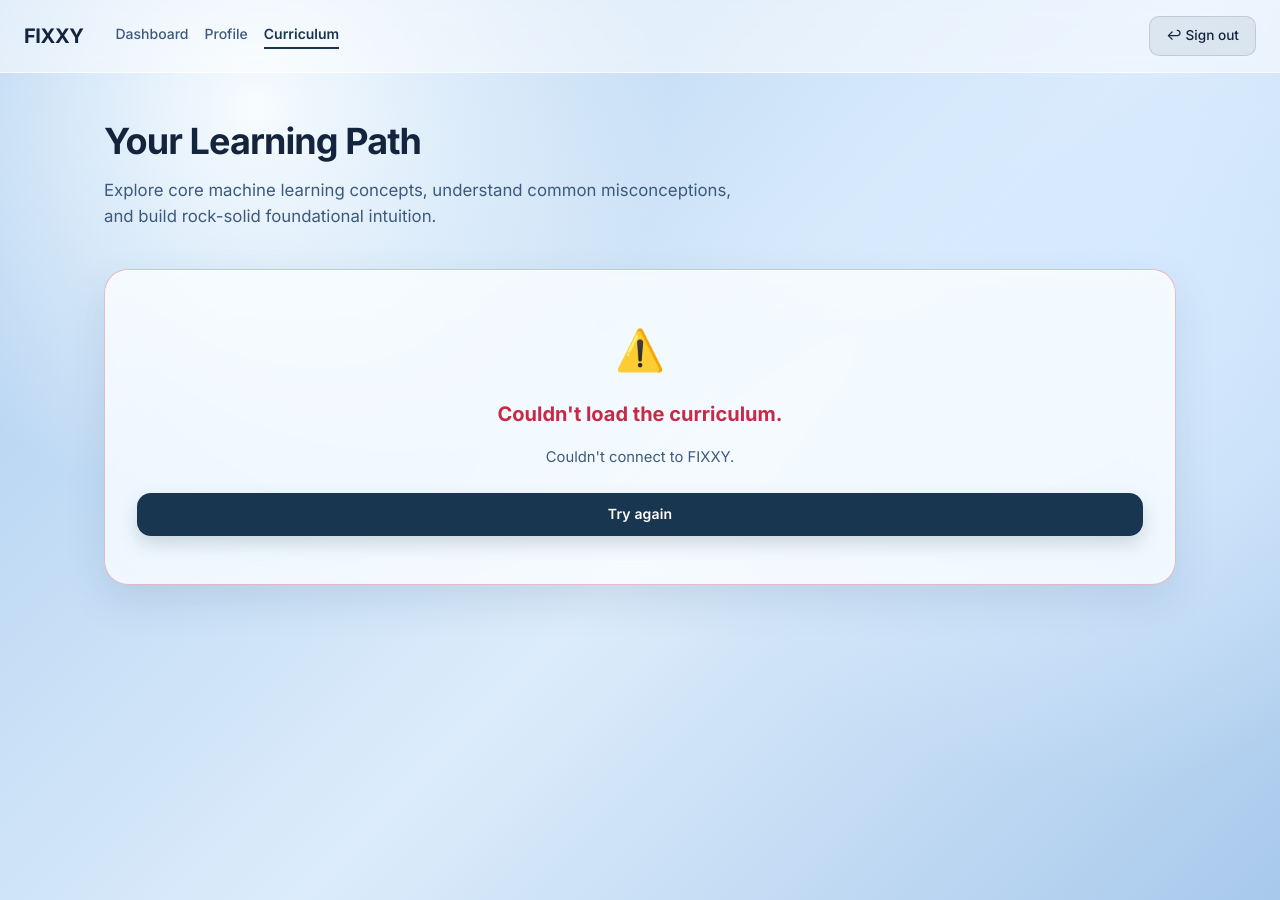
CurriculumPage › renders error state and retries successfully when clicking retry
The image size is (1280, 900).
Expected: the heading "Couldn't load the curriculum." is shown, 498,398 -> 782,430
Click the button "Try again".
click(640, 515)  # box 137,493 -> 1143,536
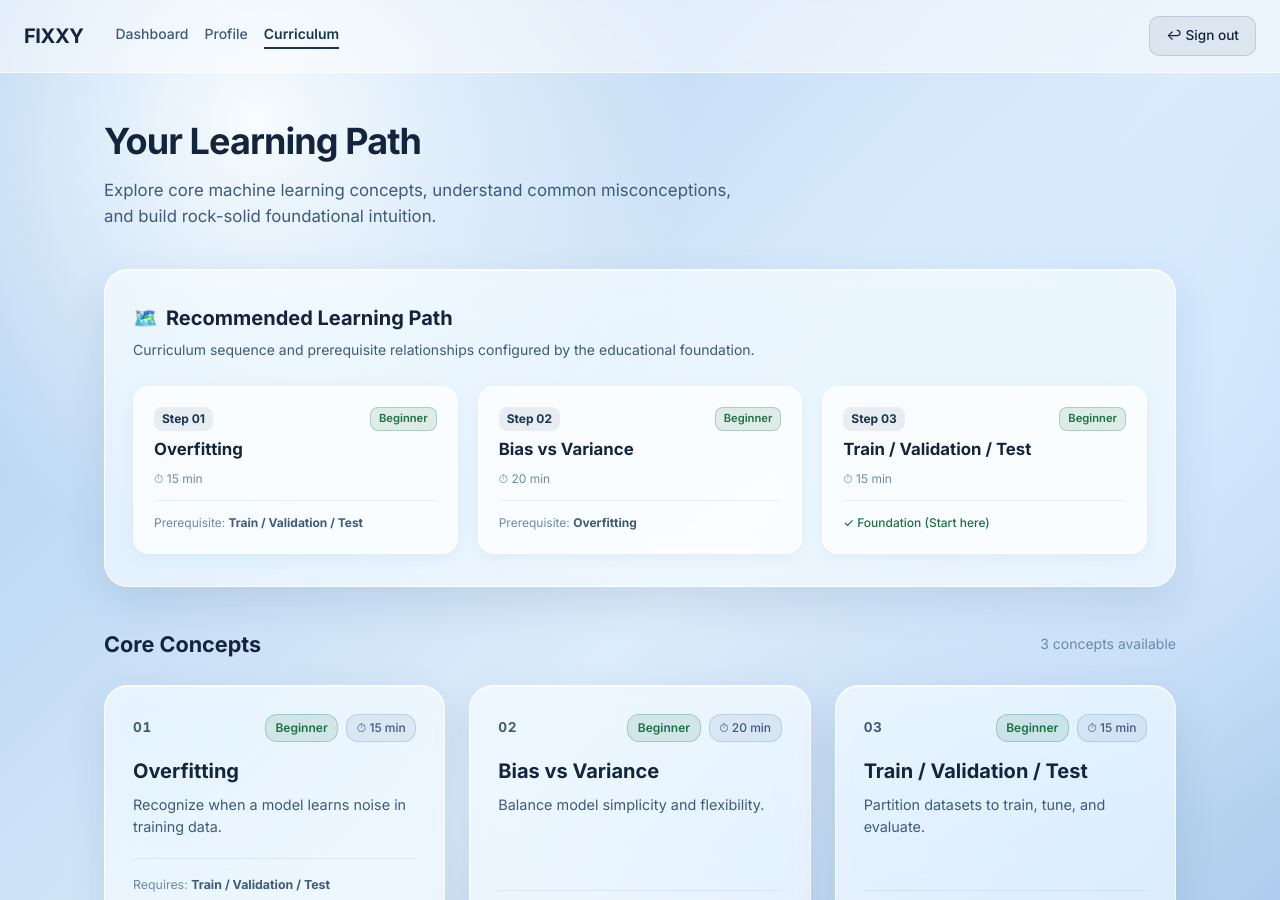
Result: the heading "Overfitting" below "Core Concepts" is shown at 133,759 -> 239,783
